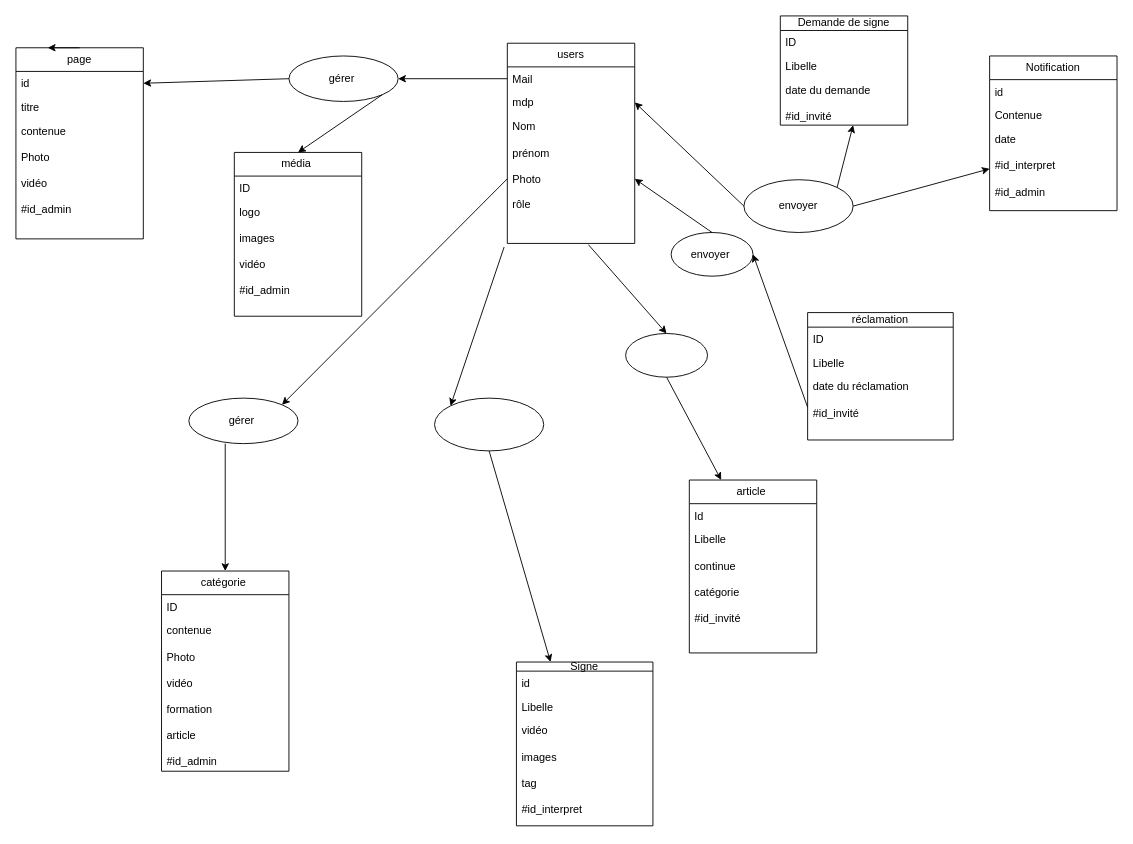
Some shapes in this 1133 by 844 pixel diagram are drawn without their labels. The centre of each missing label's shape, as x and y in pixels:
consulter: point (666, 355)
valider: point (489, 424)
